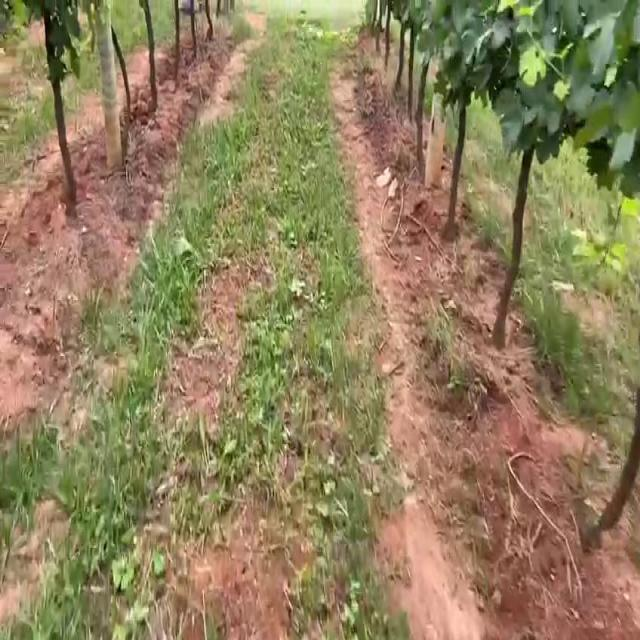tree trunk: (492, 147, 533, 348), (42, 0, 78, 216), (95, 0, 122, 168), (51, 79, 76, 216), (442, 99, 466, 240), (140, 0, 157, 111), (425, 93, 445, 187), (174, 0, 180, 88)
